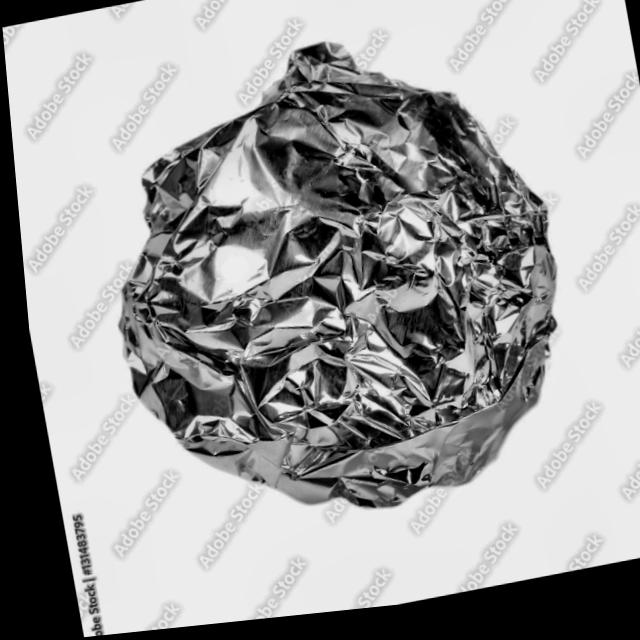Foil: (40, 0, 619, 595)
